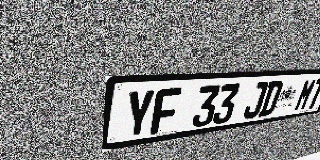3: (191, 85, 221, 128), (212, 83, 241, 125)
D: (258, 81, 284, 117)
F: (150, 87, 182, 135)
J: (242, 82, 269, 120)
M: (293, 79, 318, 112)
T: (305, 78, 320, 110)
Y: (123, 89, 156, 139)
